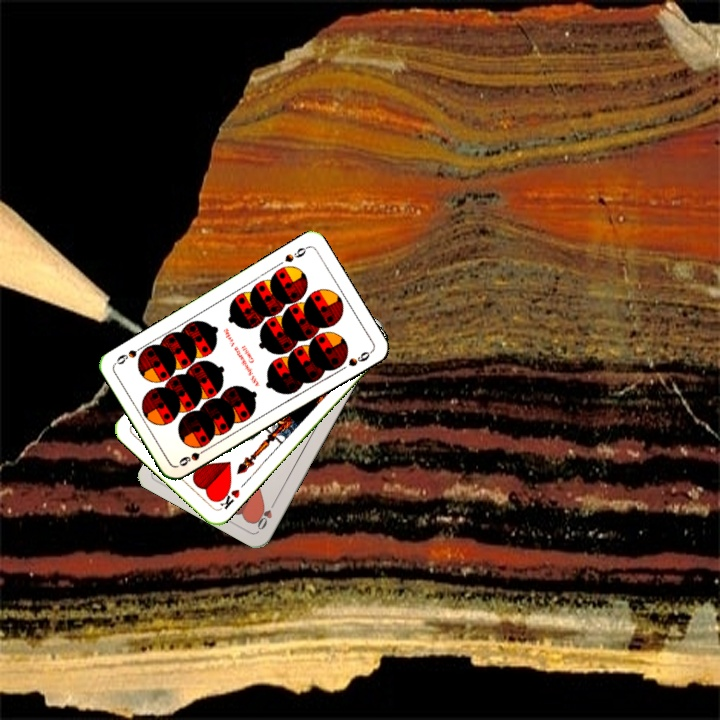HK: (213, 483, 242, 512)
HO: (252, 496, 279, 533)
S9: (174, 443, 212, 469), (281, 242, 311, 265)
